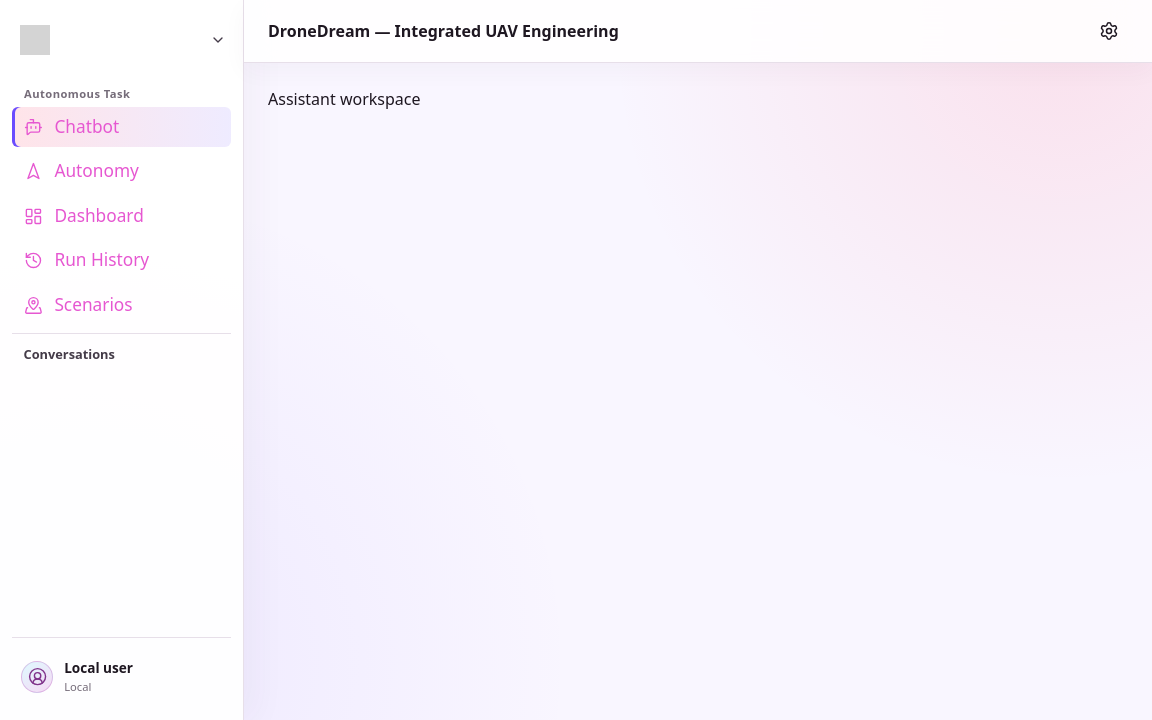
Test: workspace account entry › shows an honest local profile when cloud auth is not configured
Click the button with aria-label "Account" at [120, 677], box [12,650,227,704]
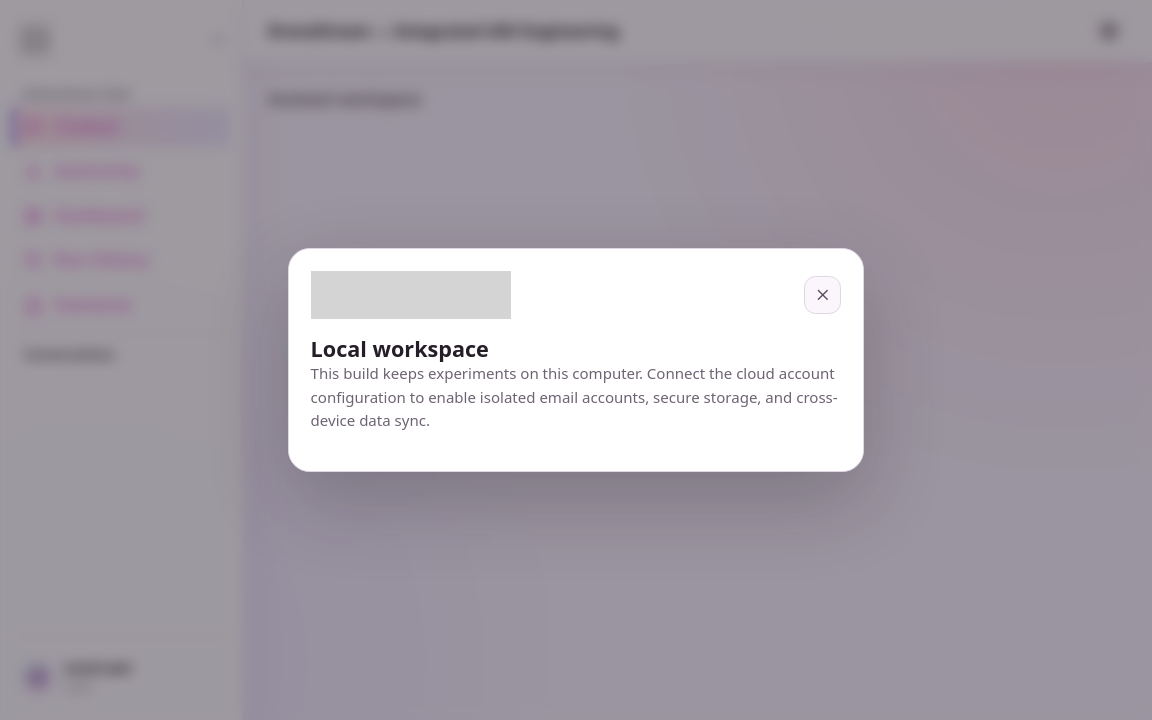
Check: the text "keeps experiments on this computer" is shown, box [311,363,838,430]
Click the button named "Close account" at [823, 295], box [804,276,841,314]
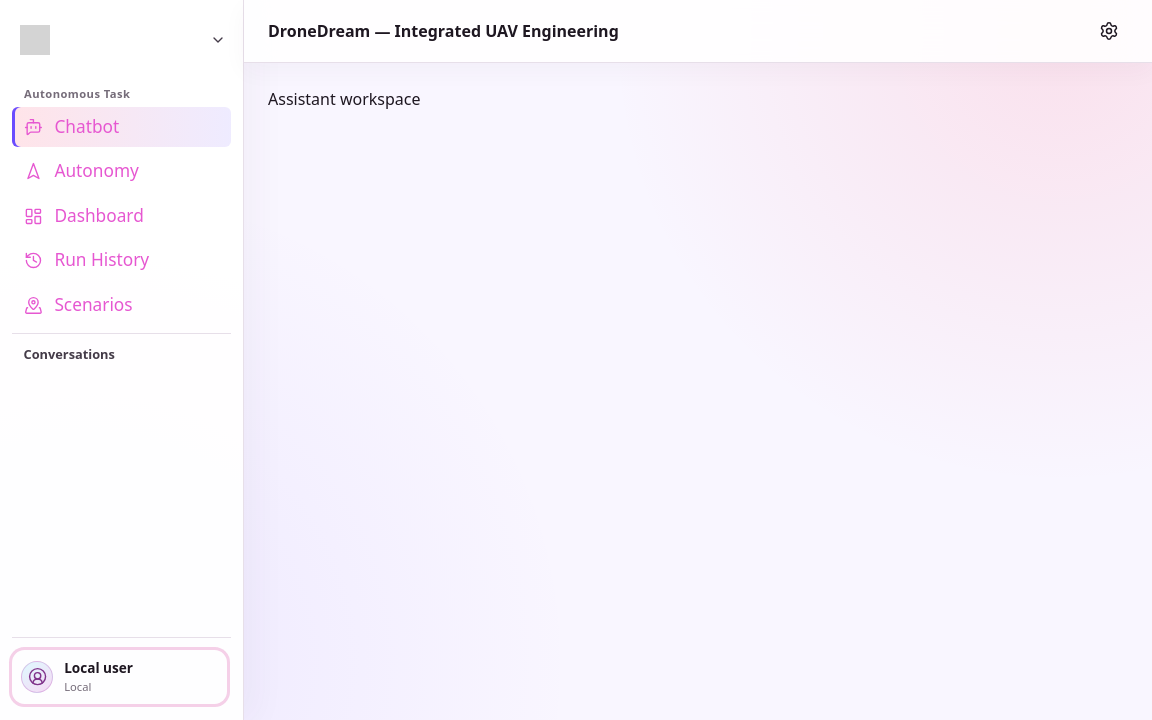
Check: the heading "Local workspace" is gone
